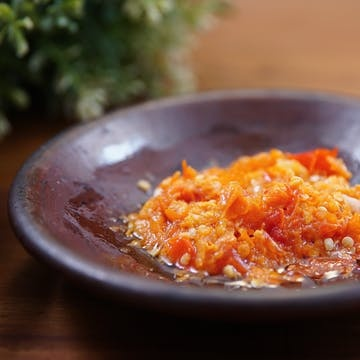sambal: (125, 147, 360, 287)
